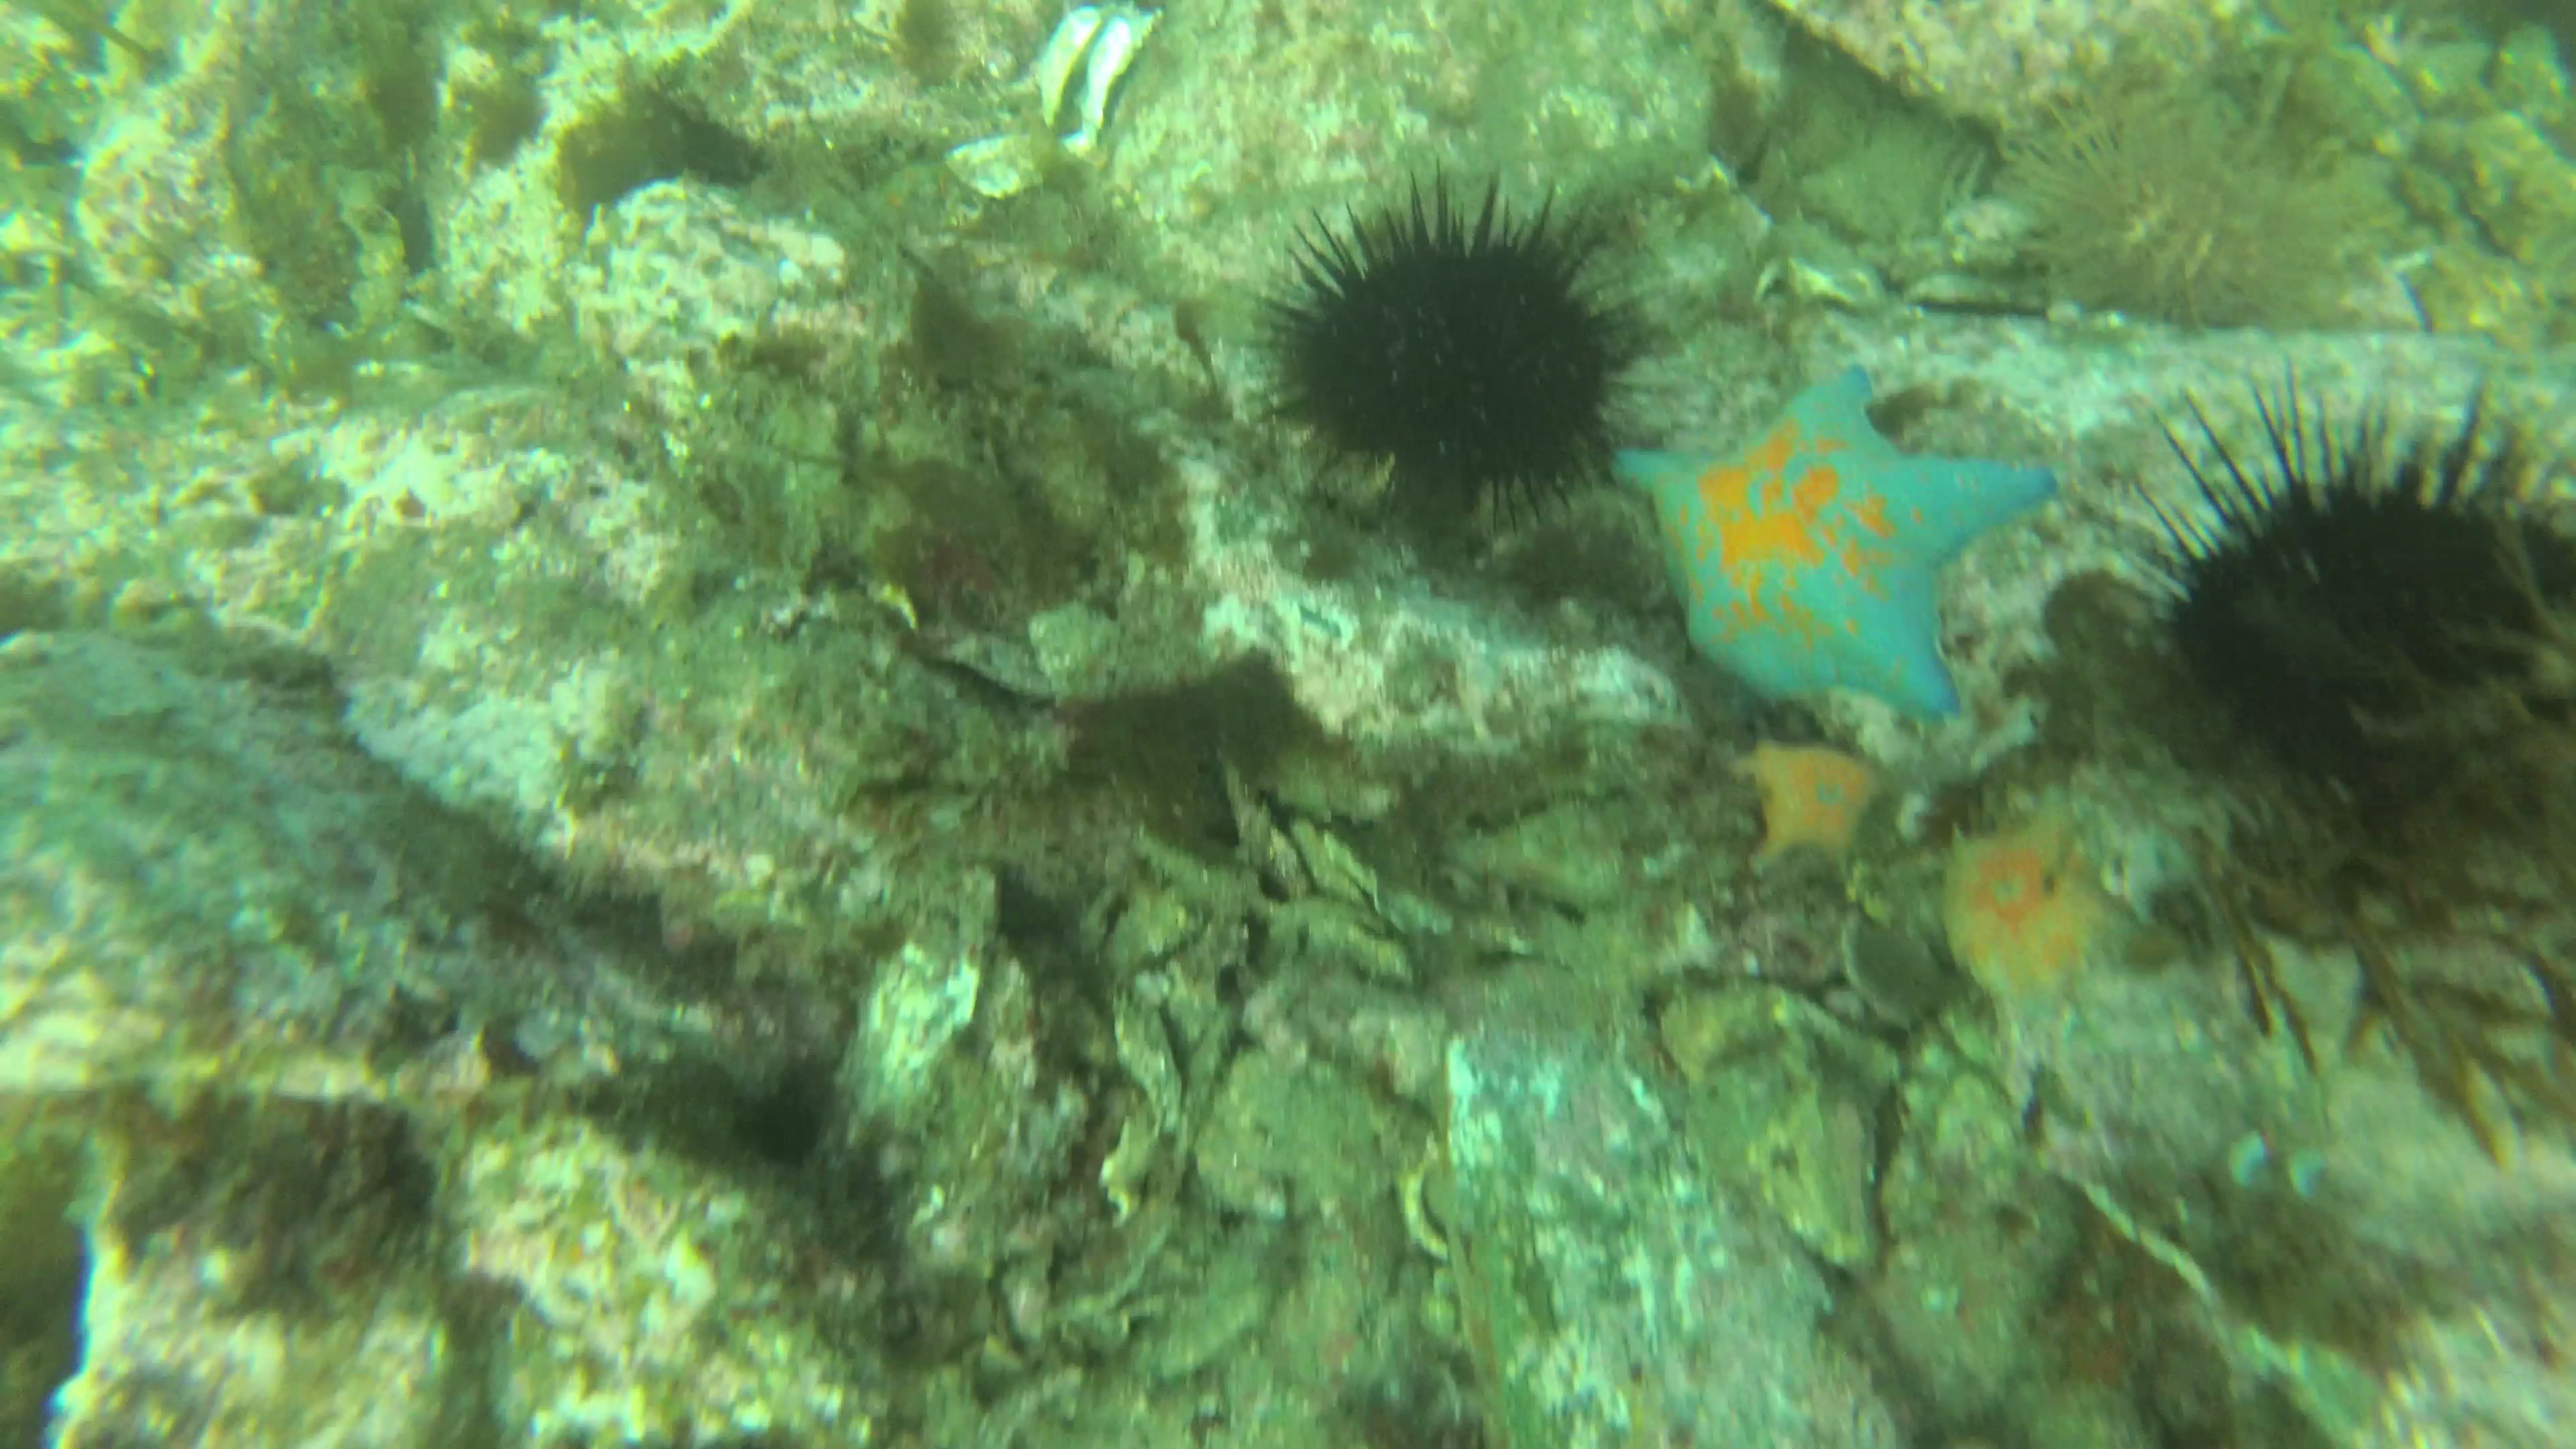echinus: (2143, 403, 2565, 754), (1269, 195, 1626, 533)
starfish: (1621, 370, 2058, 725)
